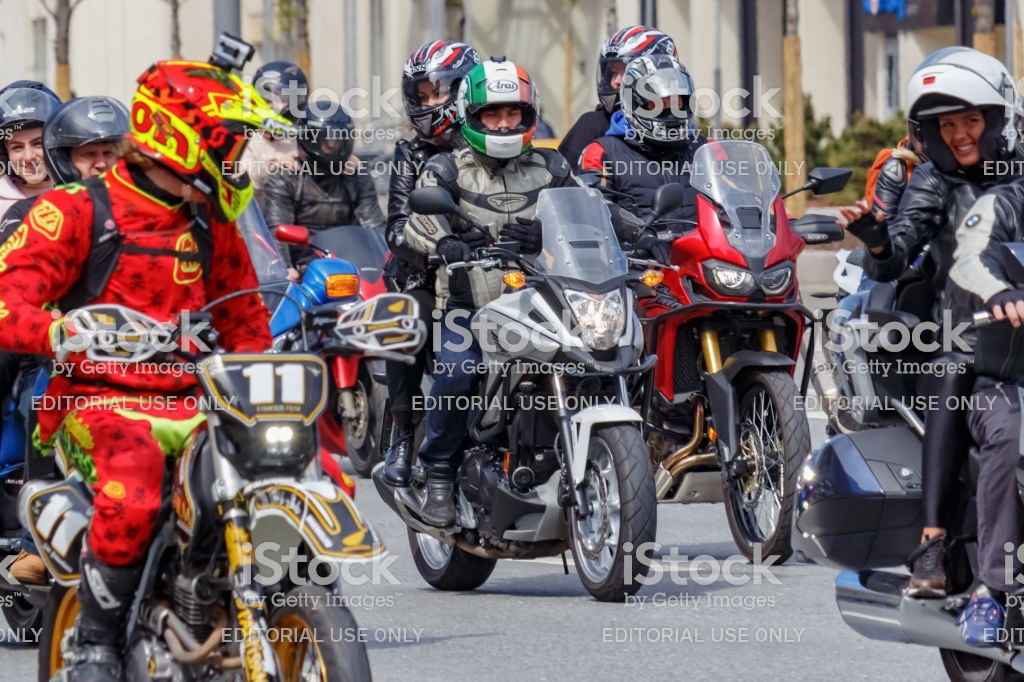helmet: (142, 65, 280, 188), (916, 41, 1024, 169), (452, 54, 543, 159), (43, 93, 132, 187), (612, 56, 698, 142), (398, 39, 473, 129), (298, 94, 363, 178)
